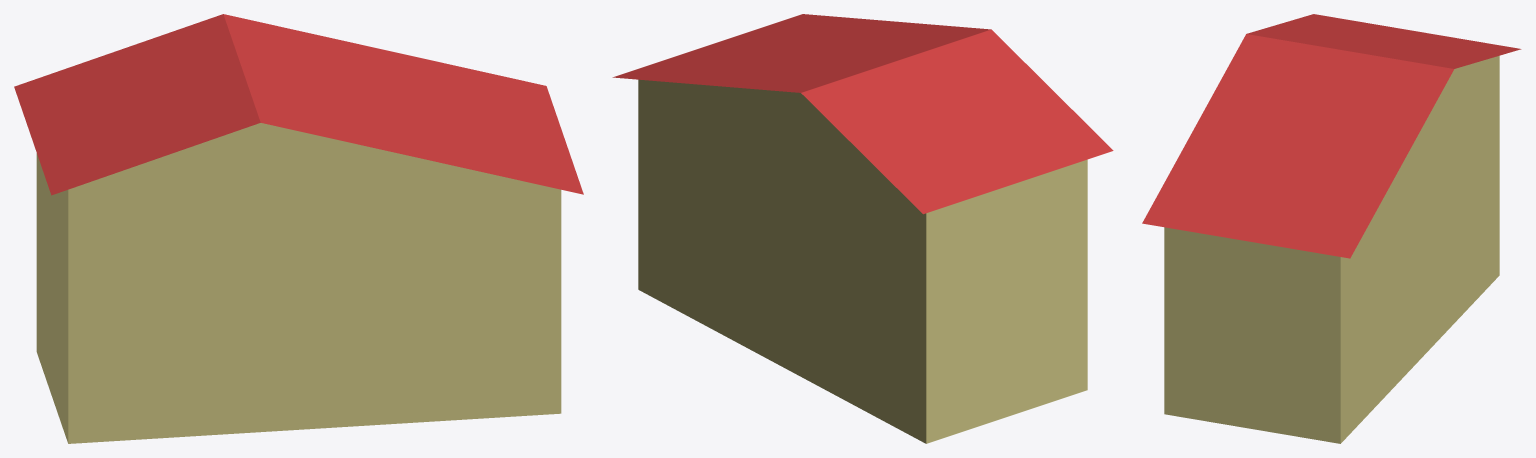
3 renders of one model, left to right at view 1: azimuth 30°, elevation 25°; view 2: azimuth 150°, elevation 25°; view 3: azimuth 270°, elevation 25°, orthographic. The views are drawn at different scales.
Bounding box in the file's own units: 14.97 × 11.07 × 8.81.
